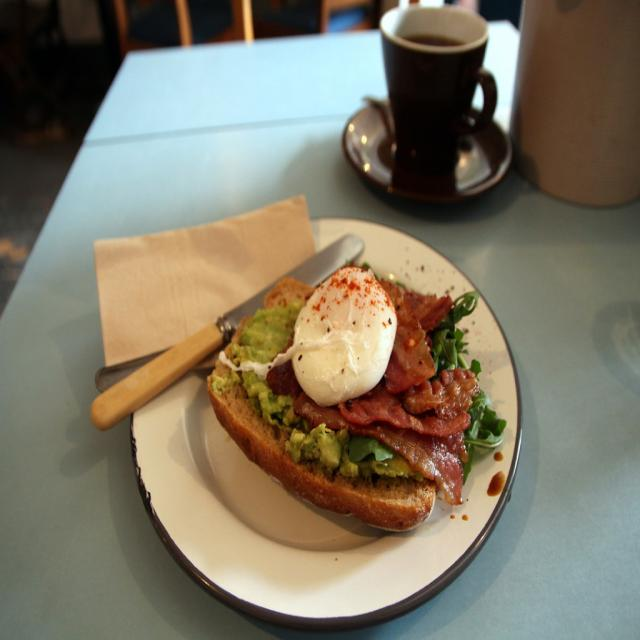Coffee: (404, 36, 466, 48)
Tea: (401, 33, 463, 49)
